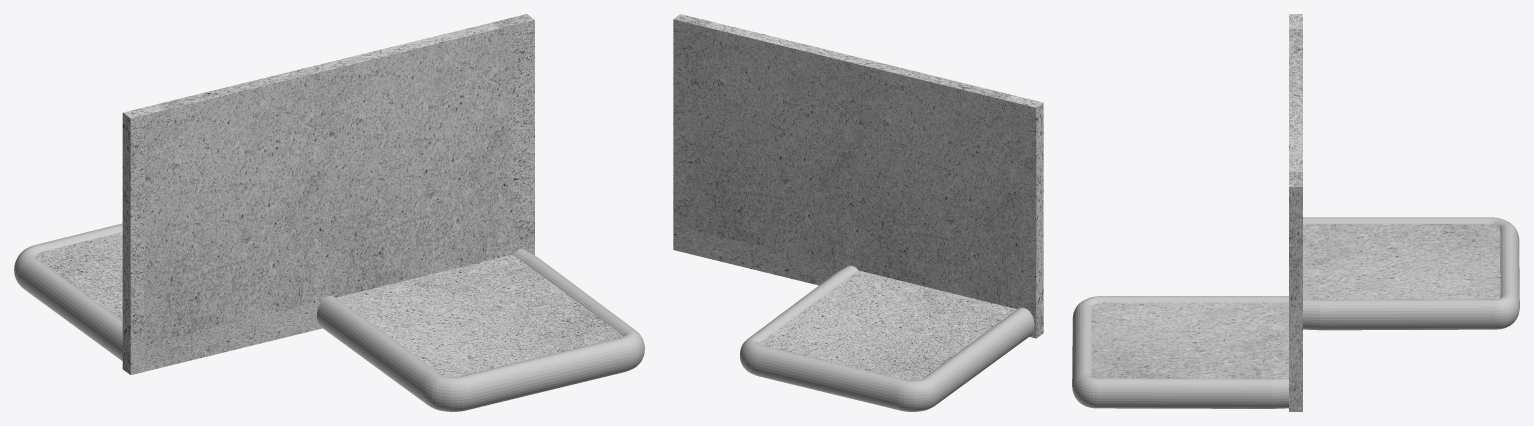
The model's file is RotatingWall1.fbx.
The picture shows the model from 3 angles, left to right: view 1: azimuth 30°, elevation 25°; view 2: azimuth 150°, elevation 25°; view 3: azimuth 270°, elevation 25°; orthographic projection. The views are drawn at different scales.
Parts seen in each view (by area): view 1: Cube, Cylinder, Cylinder.002; view 2: Cube, Cylinder.002; view 3: Cube, Cylinder.002, Cylinder.
Boxes of the visible parts, bbox=[...] form: Cube: bbox=[36, 14, 622, 376]; Cylinder: bbox=[317, 249, 644, 411]; Cylinder.002: bbox=[14, 223, 122, 360]; Cube: bbox=[673, 14, 1043, 380]; Cylinder.002: bbox=[740, 265, 1034, 411]; Cube: bbox=[1091, 14, 1500, 411]; Cylinder.002: bbox=[1303, 217, 1519, 330]; Cylinder: bbox=[1072, 296, 1288, 408].
Size of the model in its own units: 1976 by 1210 by 2163.
